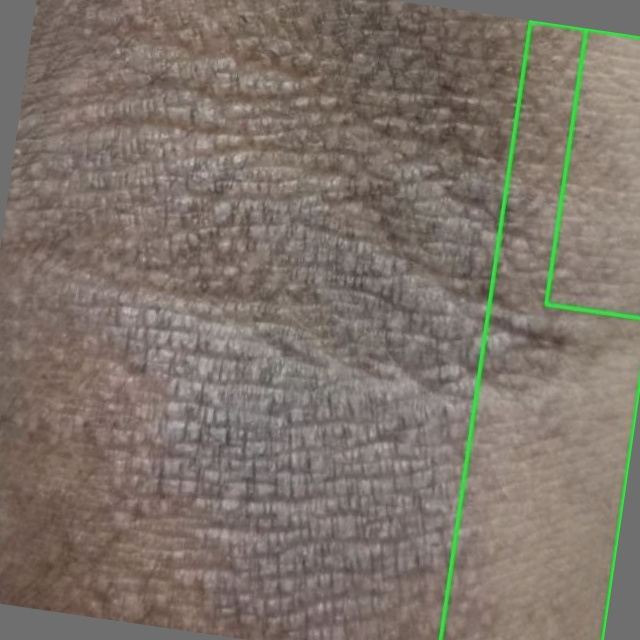Eczema: (440, 20, 639, 639), (546, 29, 639, 318)
